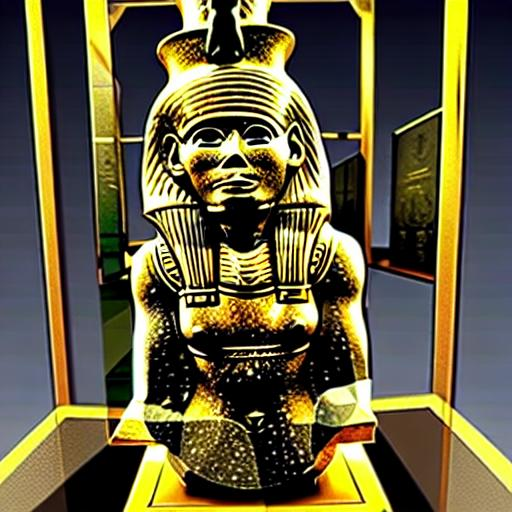Bust of Isis: (110, 0, 378, 469)
